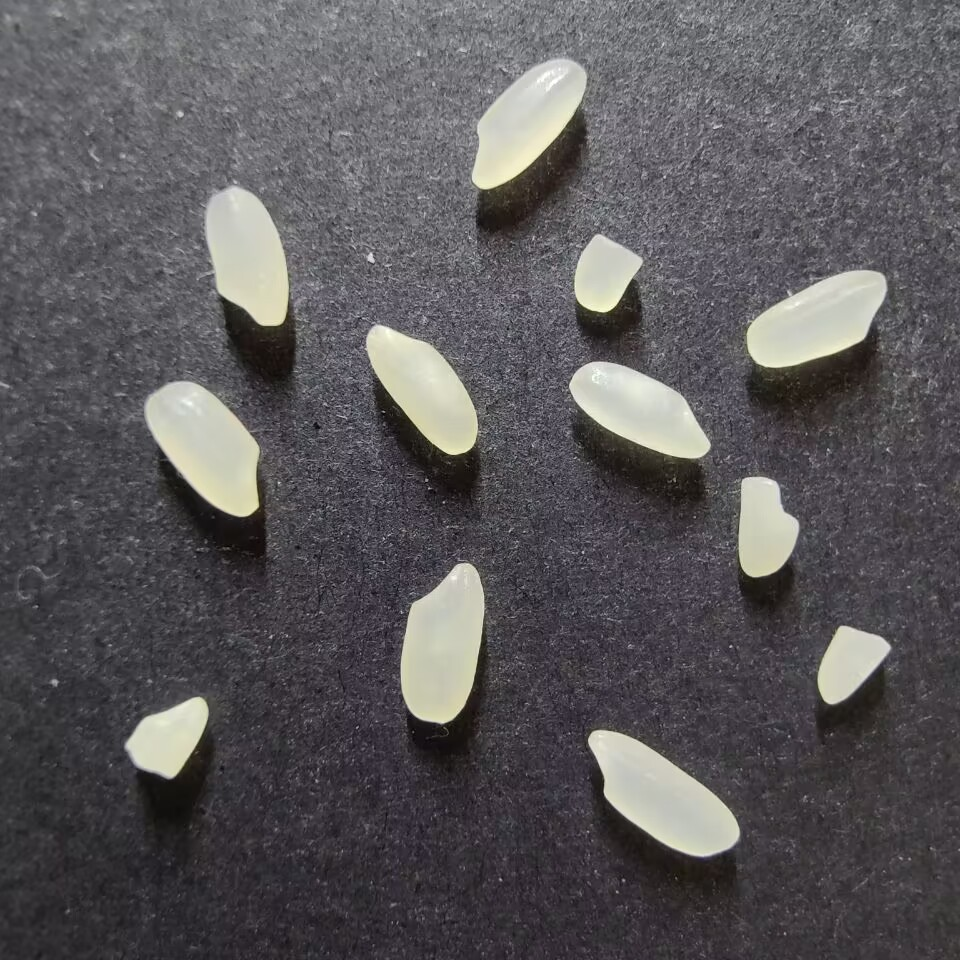broken: (123, 696, 208, 780), (737, 475, 799, 579), (816, 625, 892, 705), (572, 233, 643, 313)
rice: (587, 728, 740, 857), (144, 380, 261, 518), (470, 58, 587, 190), (364, 324, 478, 455), (745, 269, 887, 368), (569, 360, 710, 459), (399, 562, 485, 724), (204, 186, 289, 327)
